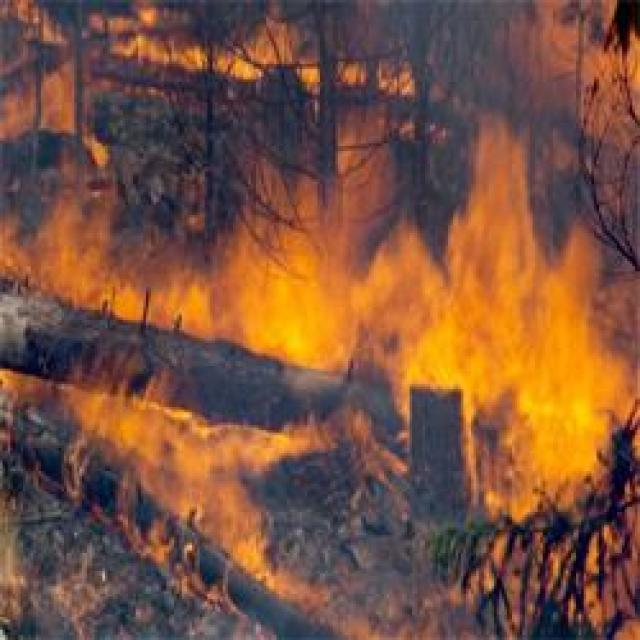Fire: (10, 179, 358, 605), (368, 154, 639, 496)
